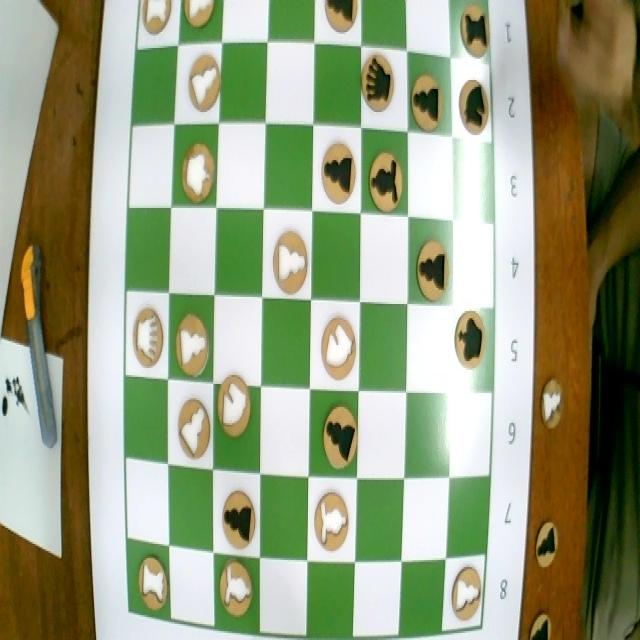chess-pieces: (264, 216, 312, 300), (309, 478, 354, 562), (128, 540, 174, 622), (268, 218, 312, 300), (314, 312, 360, 390), (451, 306, 493, 391), (315, 132, 360, 210), (169, 388, 214, 464), (218, 475, 260, 554), (360, 146, 408, 215), (411, 225, 451, 305), (310, 481, 354, 552), (214, 374, 255, 450), (175, 136, 218, 207), (216, 550, 254, 630), (444, 559, 485, 630), (128, 293, 166, 368), (174, 305, 210, 380), (319, 404, 359, 471), (182, 51, 221, 119), (408, 67, 446, 134), (362, 51, 398, 114), (456, 0, 491, 59), (457, 80, 493, 137), (320, 0, 359, 37), (183, 0, 220, 36), (140, 0, 176, 36)
